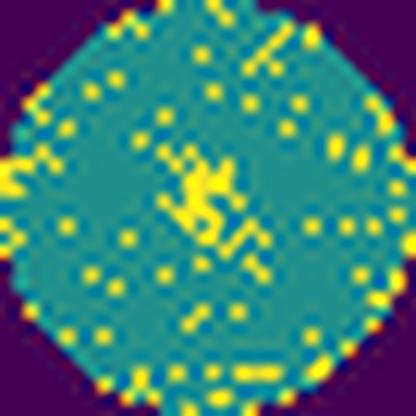Center: (153, 136, 250, 252)
